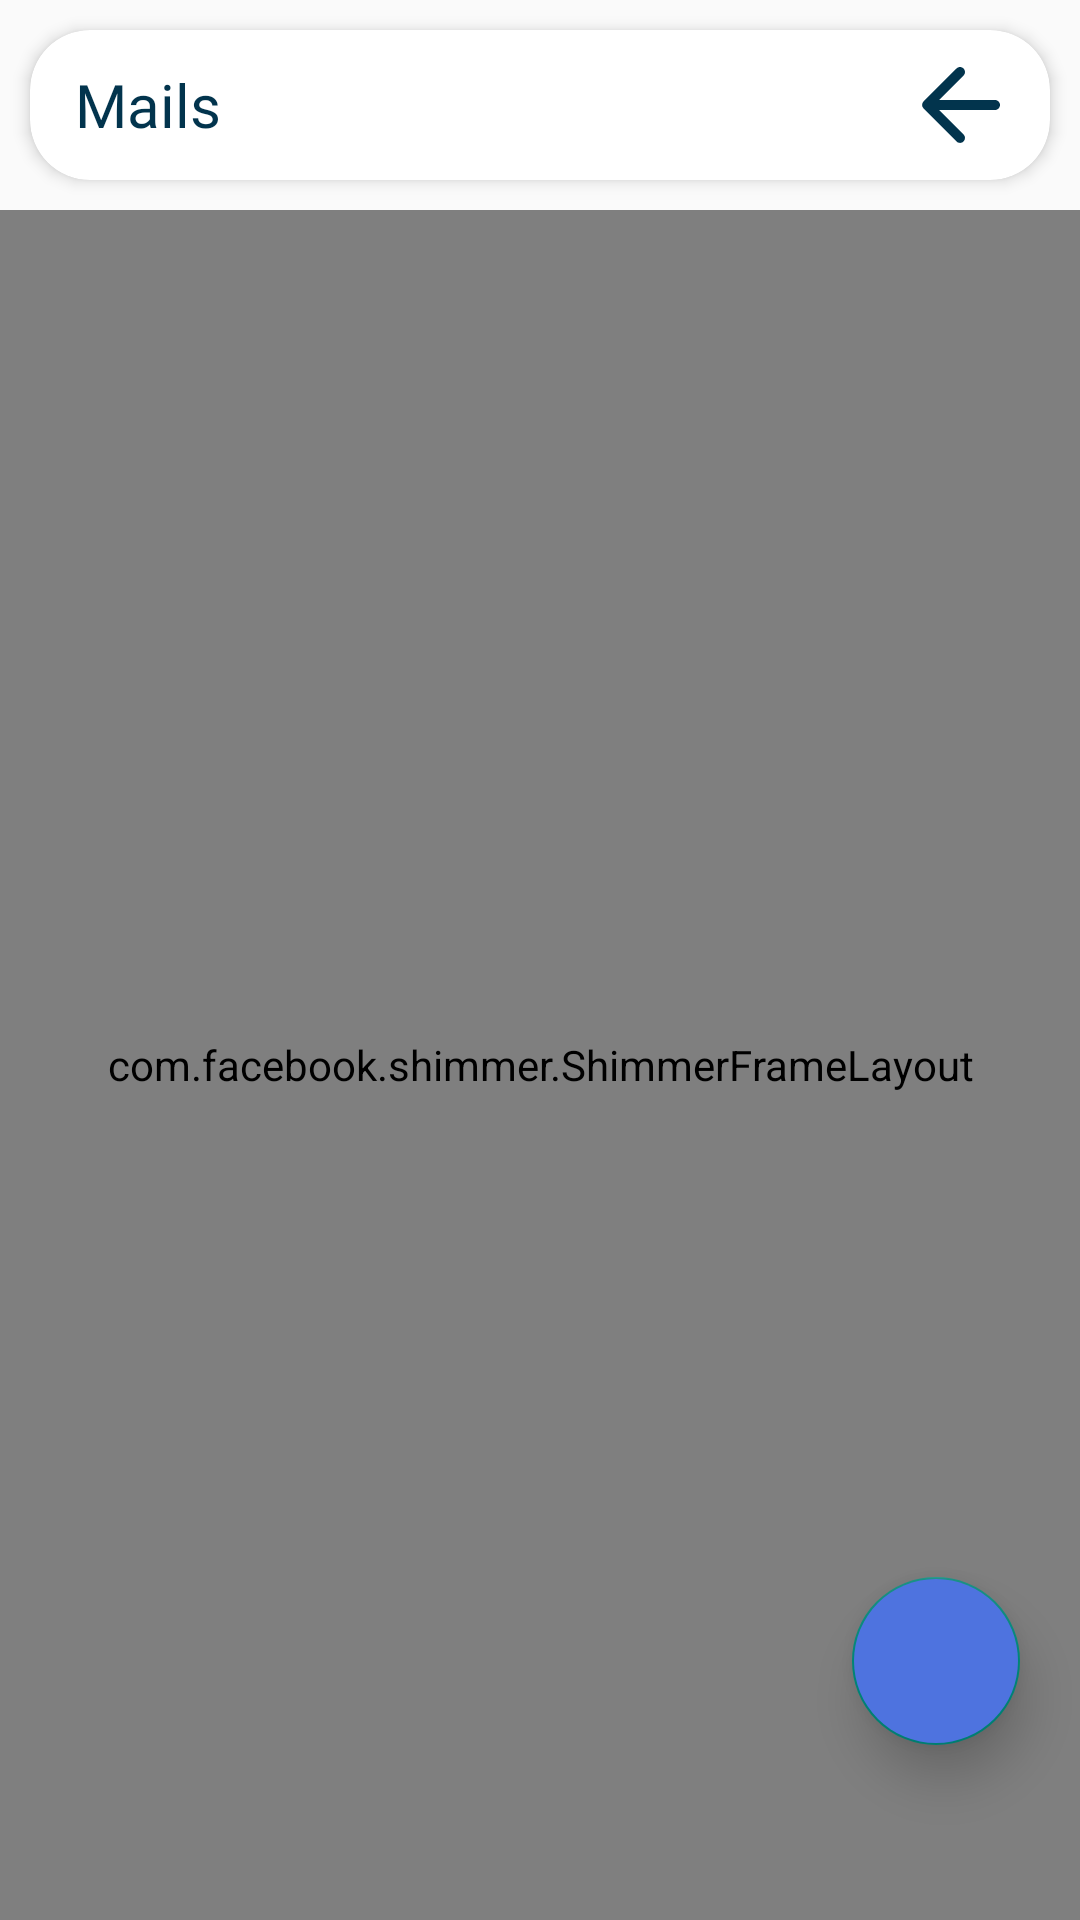

Point at icon controls on the screen. Image size 1080x1920, points as (x,y).
arrow back: (961,105)
